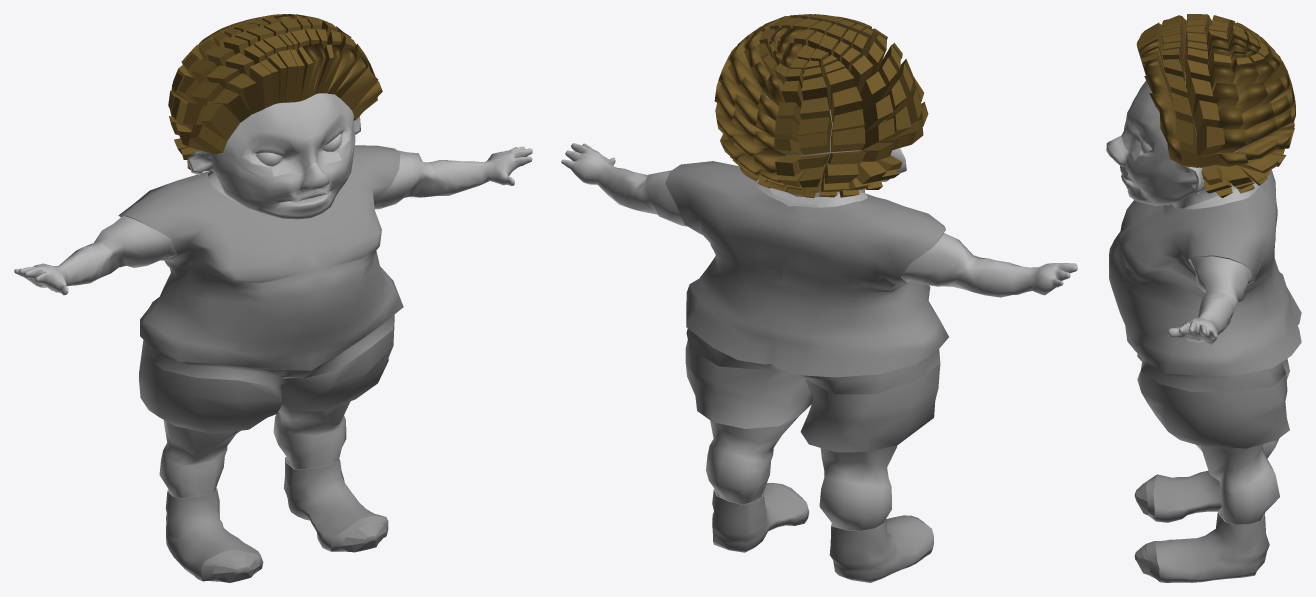
File: LittleBoy.fbx
The picture shows the model from 3 angles, left to right: view 1: azimuth 30°, elevation 25°; view 2: azimuth 150°, elevation 25°; view 3: azimuth 270°, elevation 25°; orthographic projection.
Visible parts, largest first — view 1: polySurface15, polySurface35, polySurface19, polySurface32, polySurface29, polySurface28, polySurface30; view 2: polySurface15, polySurface35, polySurface19, polySurface30, polySurface28, polySurface29, polySurface32; view 3: polySurface15, polySurface35, polySurface19, polySurface29, polySurface32, polySurface30, polySurface28.
Part boxes in pixels (bbox=[...]): polySurface15: bbox=[118, 145, 403, 370]; polySurface35: bbox=[168, 14, 382, 169]; polySurface19: bbox=[139, 315, 394, 433]; polySurface32: bbox=[187, 93, 360, 219]; polySurface29: bbox=[165, 457, 388, 582]; polySurface28: bbox=[14, 146, 532, 295]; polySurface30: bbox=[159, 401, 350, 498]; polySurface15: bbox=[665, 161, 948, 377]; polySurface35: bbox=[714, 14, 928, 198]; polySurface19: bbox=[685, 328, 940, 452]; polySurface30: bbox=[706, 416, 897, 530]; polySurface28: bbox=[561, 143, 1077, 297]; polySurface29: bbox=[712, 483, 933, 582]; polySurface32: bbox=[754, 93, 906, 207]; polySurface15: bbox=[1109, 169, 1301, 375]; polySurface35: bbox=[1136, 14, 1295, 197]; polySurface19: bbox=[1137, 353, 1289, 448]; polySurface29: bbox=[1134, 470, 1269, 582]; polySurface32: bbox=[1106, 69, 1261, 209]; polySurface30: bbox=[1196, 438, 1279, 524]; polySurface28: bbox=[1167, 256, 1252, 344].
Bounding box in the file's own units: 46.14 × 45.05 × 15.66.
